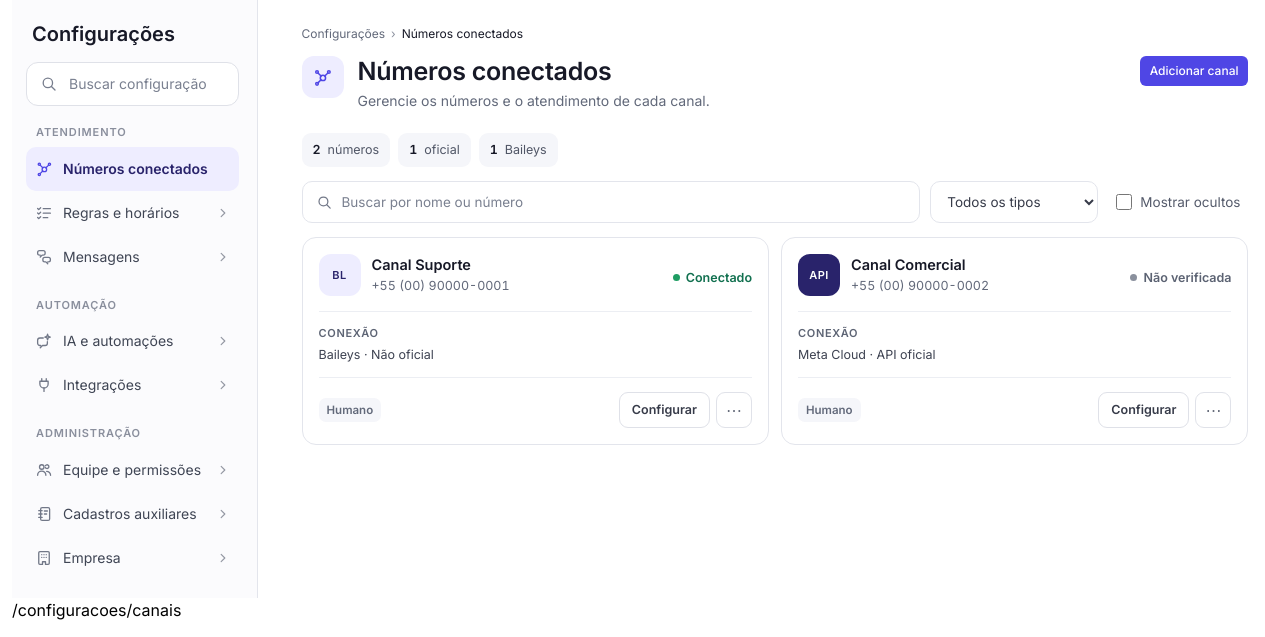
SettingsLayout: a busca não mexe na página aberta (desktop) › pesquisar "pix" e limpar: dois resultados no diretório; Números conectados segue montado, visível, na mesma rota e sem requisição nova
The width and height of the screenshot is (1265, 637).
Pesquisa "pix".
Step 1. Type "pix" into the search field labelled "Buscar configuração" → [132, 84], box [26,62,239,106]
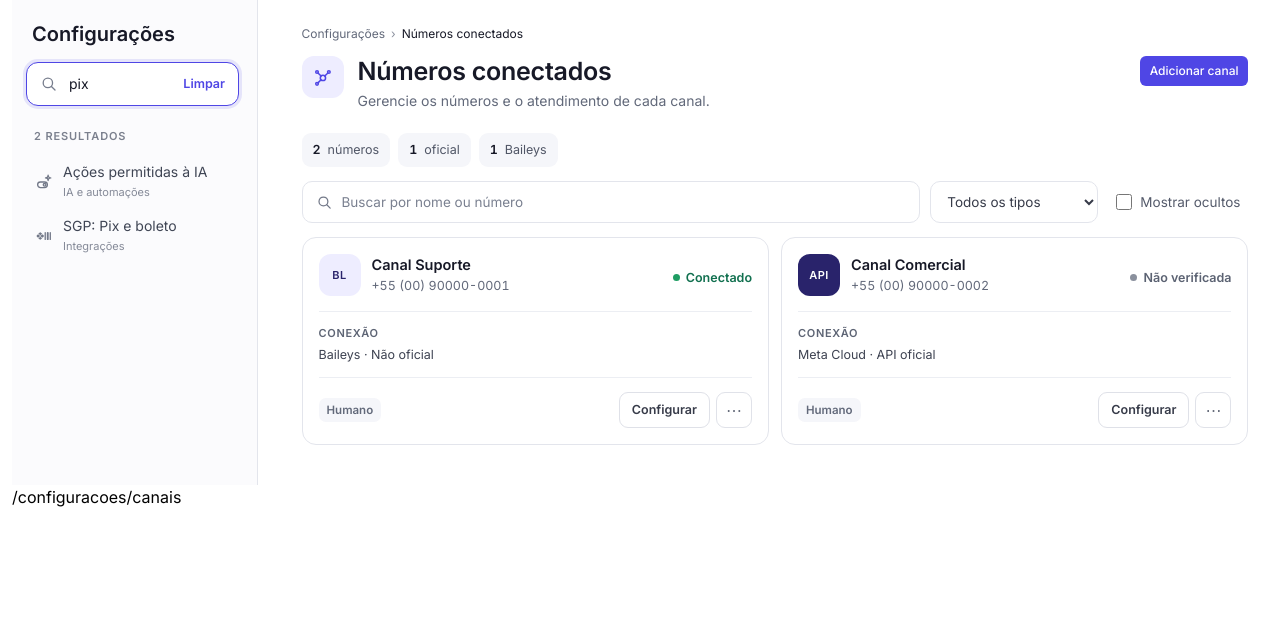
Check: the heading "Números conectados" is shown, box [358,56,612,86]
Check: the message reads "2 resultados", box [34,129,126,143]
Step 2. Press Escape
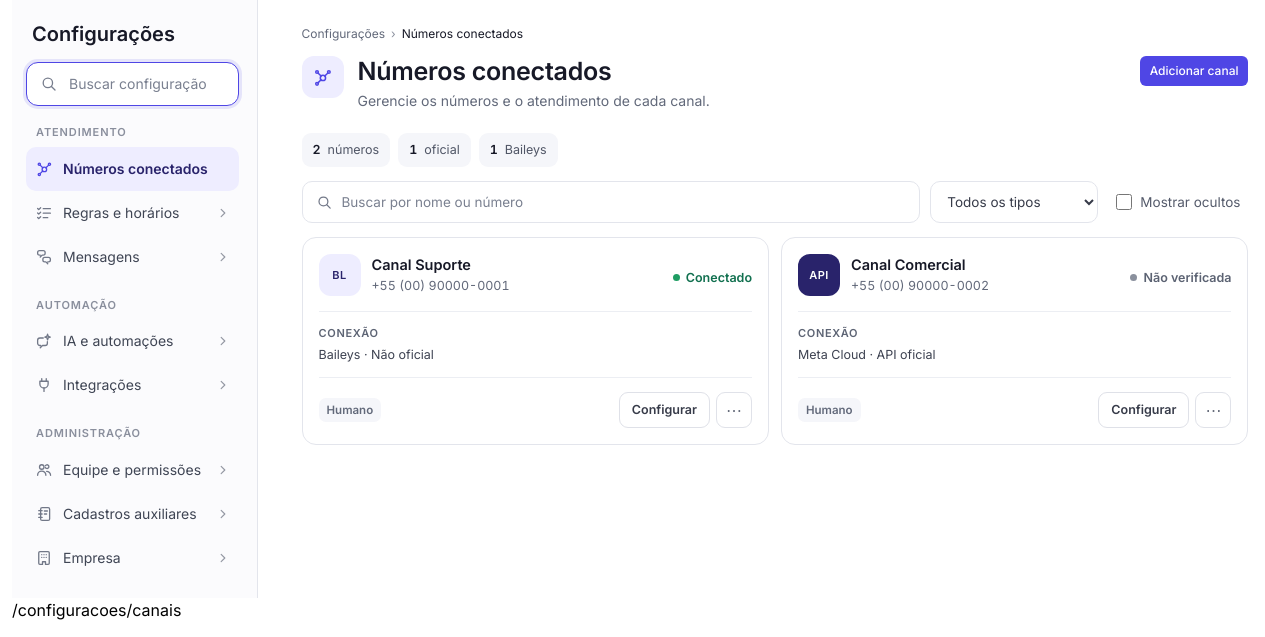
Check: the search field labelled "Buscar configuração" is empty
Check: the navigation bar named "Seções de configurações" is shown, box [26,124,239,580]
Limpar pelo botão faz o mesmo.
Step 3. Type "pix" into the search field labelled "Buscar configuração" → [132, 84], box [26,62,239,106]
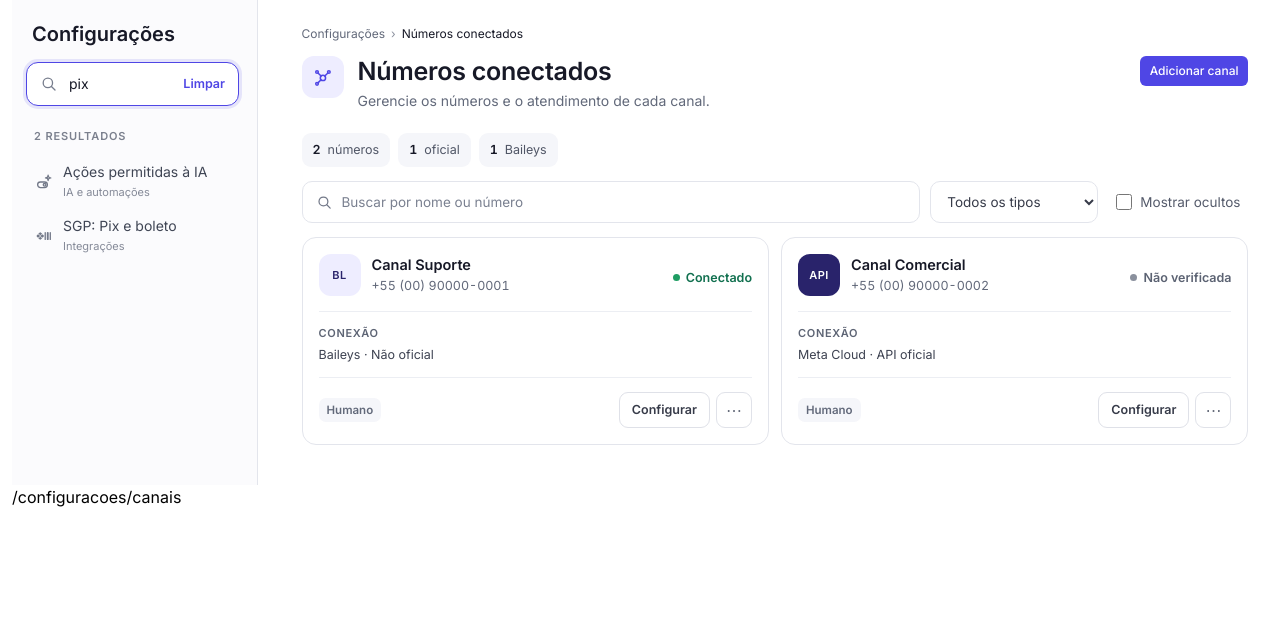
Step 4. Click the button "Limpar" → [204, 84], box [175,68,233,100]
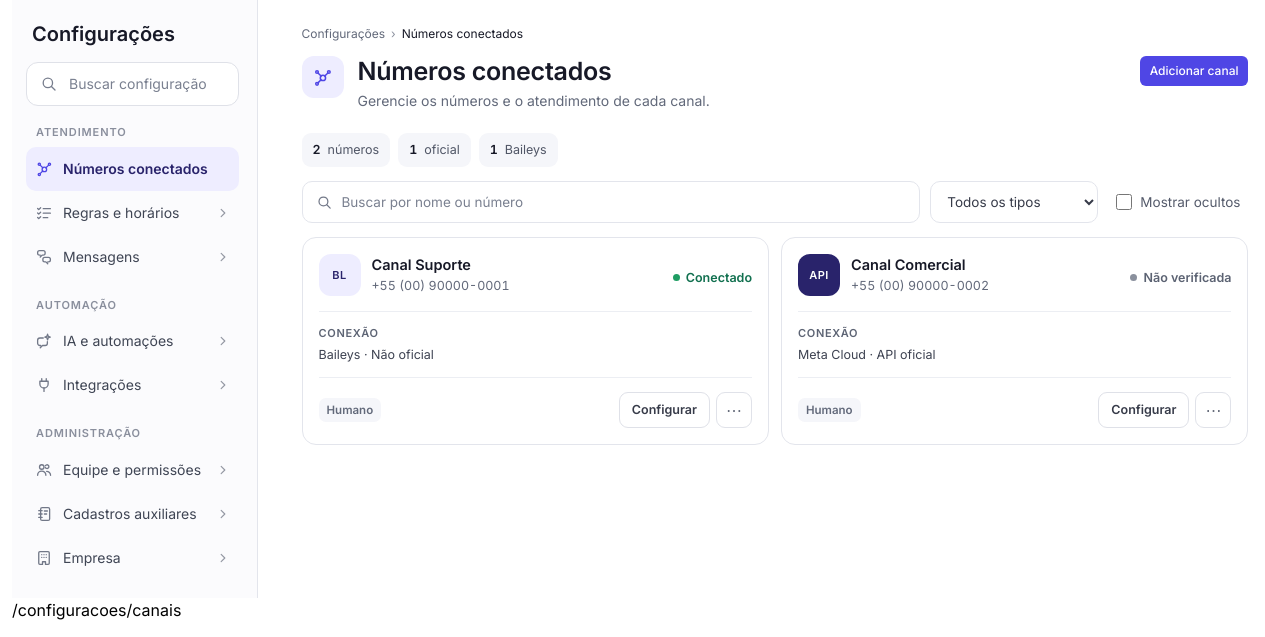
Check: the link "Canal Suporte" is shown, box [372,256,471,273]
Check: the search field labelled "Buscar configuração" is empty, box [26,62,239,106]
